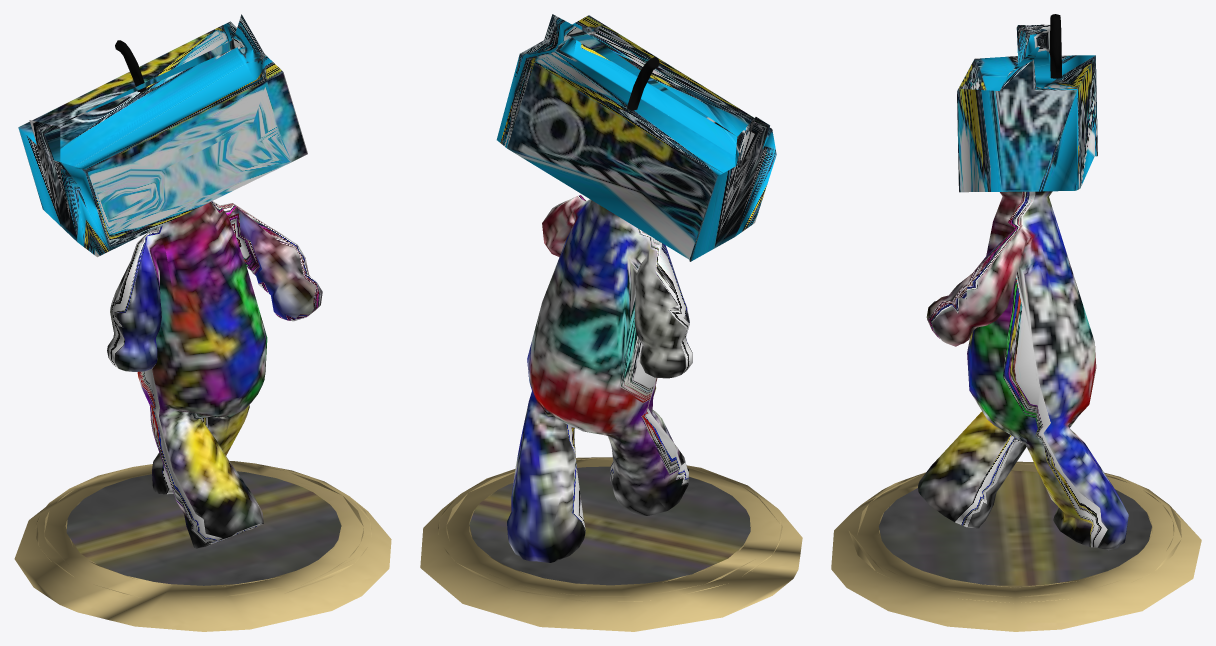
The picture shows the model from 3 angles, left to right: view 1: azimuth 30°, elevation 25°; view 2: azimuth 150°, elevation 25°; view 3: azimuth 270°, elevation 25°; orthographic projection. The views are drawn at different scales.
Size of the model in its own units: 1.45 by 2.19 by 1.42.
Materials: 5 (4 with a texture image).
